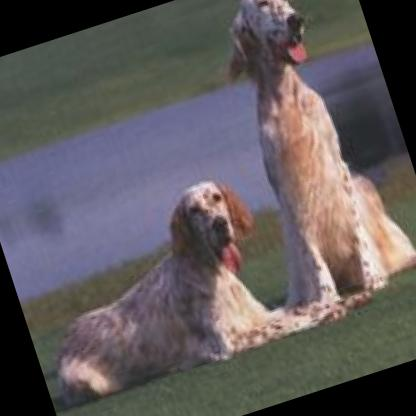English_setter: (12, 160, 322, 408), (185, 0, 416, 322)
